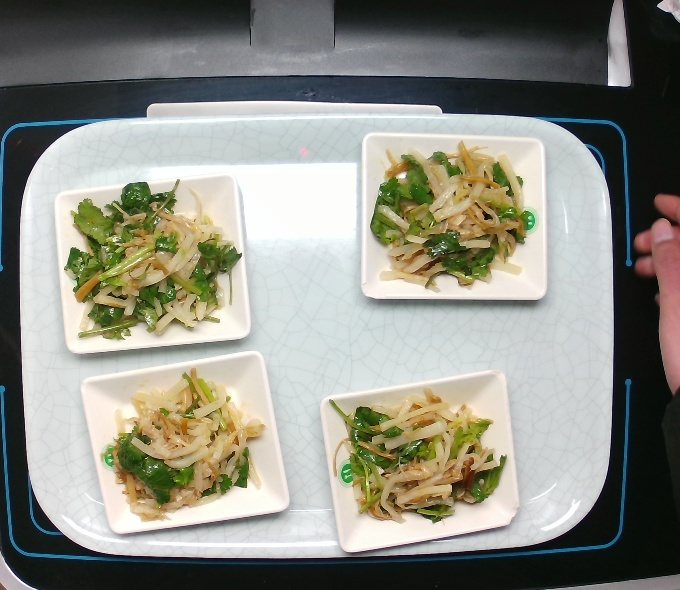wcq-LiangBanJinZhenGu: (60, 178, 240, 342), (87, 357, 267, 518), (363, 141, 539, 300), (321, 380, 505, 530)
